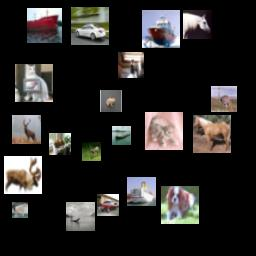automobile: (71, 7, 109, 45), (97, 194, 119, 216)
bird: (211, 86, 237, 112)
cat: (15, 64, 53, 102), (145, 112, 183, 150), (118, 52, 144, 78), (49, 133, 71, 155)
deer: (4, 156, 42, 194), (12, 115, 41, 144), (82, 142, 101, 161)
dog: (161, 186, 199, 224)
frog: (100, 90, 122, 112)
ship: (142, 10, 180, 48), (27, 8, 62, 43), (66, 202, 95, 231), (127, 177, 156, 206), (112, 126, 131, 145)
